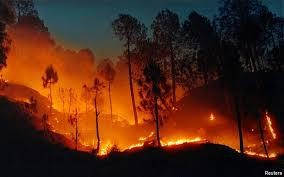fire: (7, 45, 205, 152)
